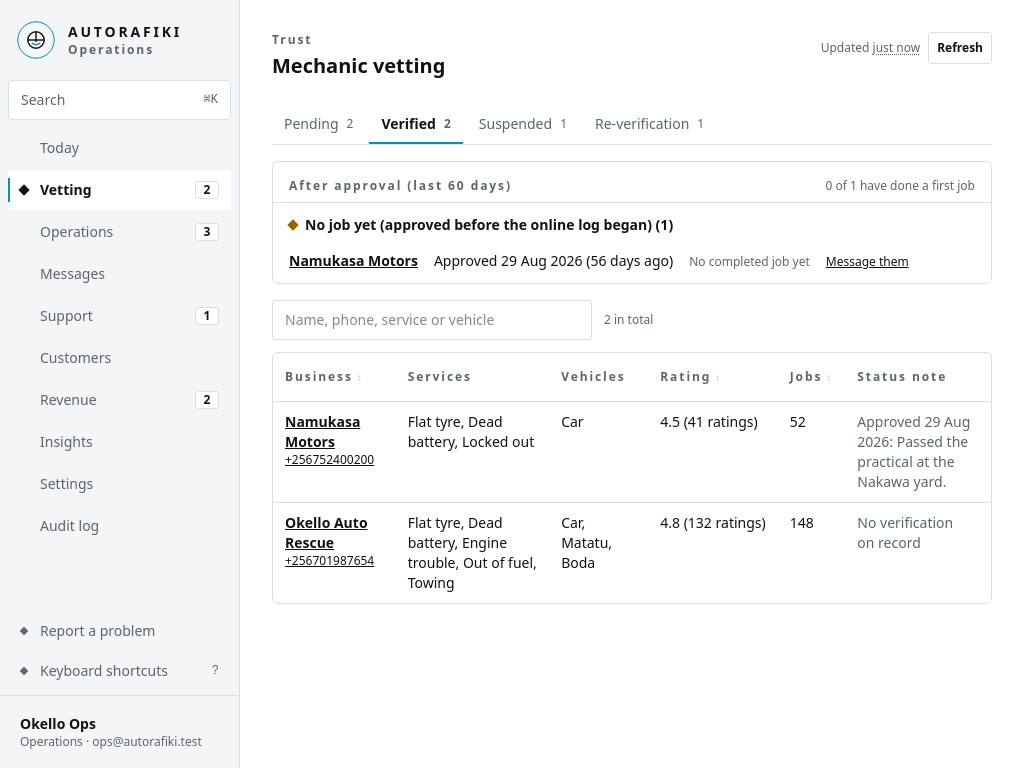
sortable, searchable lists › vetting: filter by any word, sort by a column (asc, desc, back to default)
Click the button "Jobs ↕" at x=812, y=377, box 790,361 -> 833,393
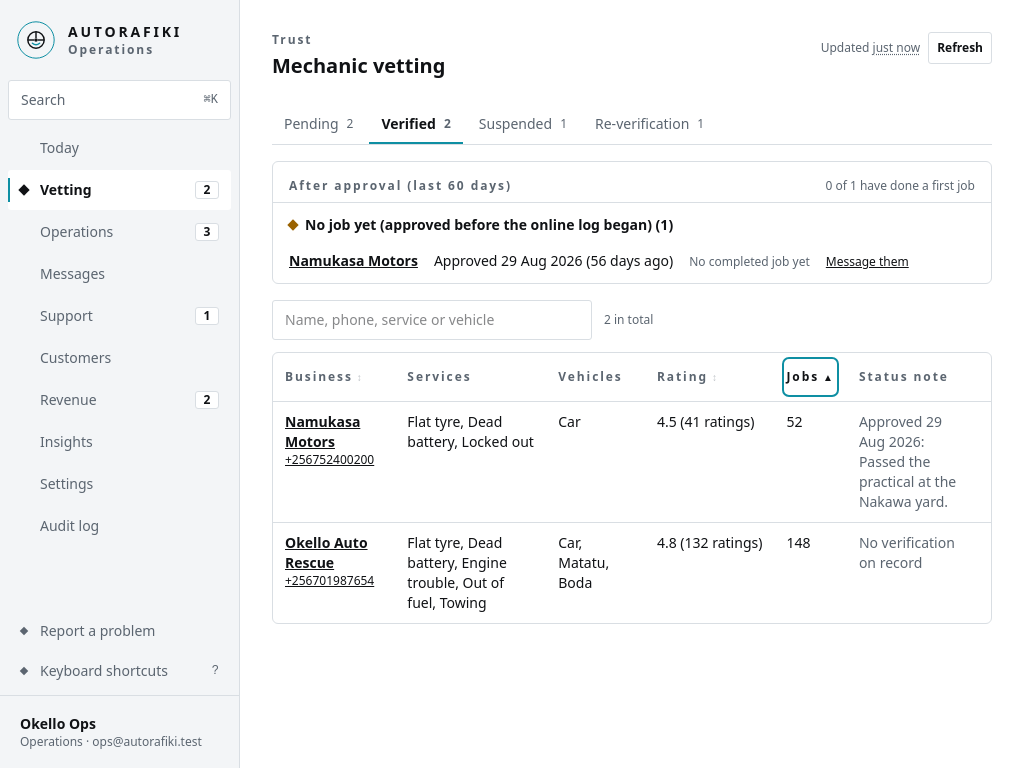
Expected: the column heading "Jobs ▲" has attribute aria-sort="ascending", 774,353 -> 847,402
Click the button "Jobs ▲" at x=811, y=377, box 786,361 -> 835,393
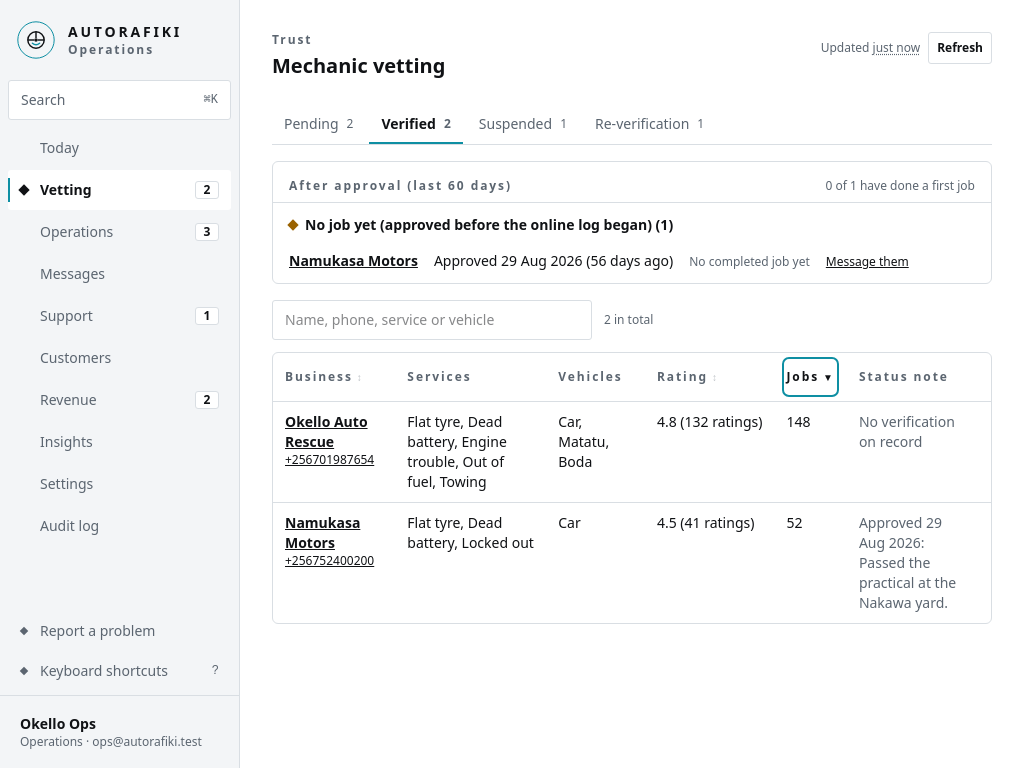
Click the button "Jobs ▼" at x=811, y=377, box 786,361 -> 835,393
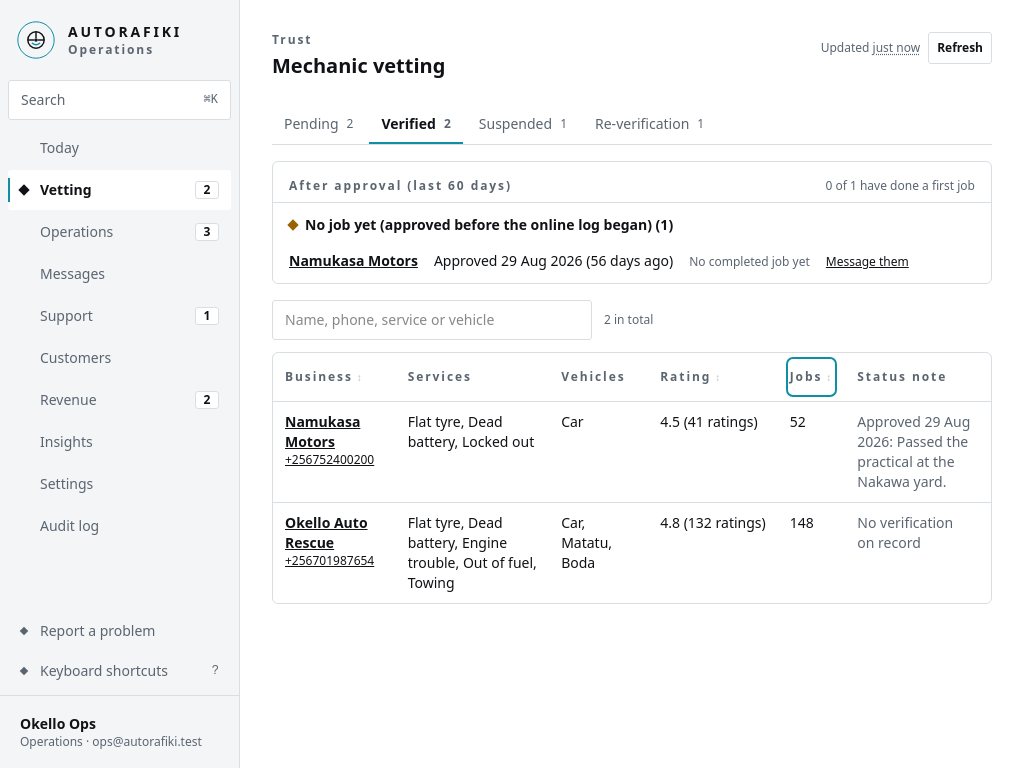
Type "Namukasa" into the search field named "Filter mechanics" at x=432, y=320, box 272,300 -> 592,340
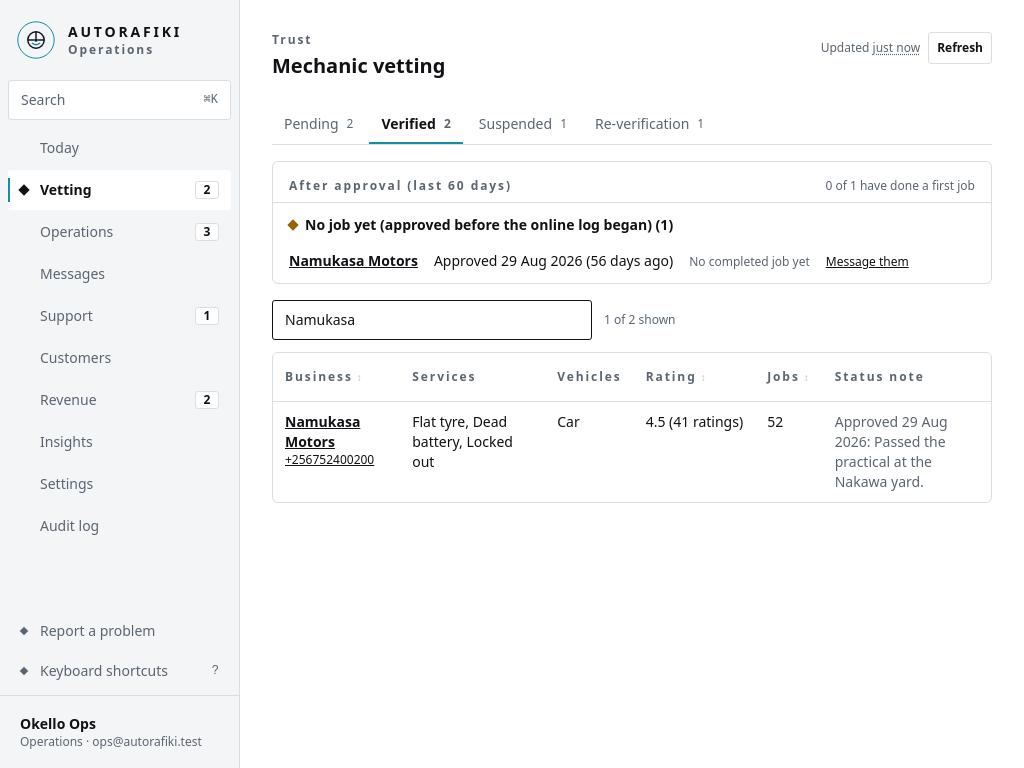
Expected: the text "1 of 2 shown" is shown, 604,312 -> 676,328
Replace the text in the search field named "Filter mechanics" with "zzzz nobody" at x=432, y=320, box 272,300 -> 592,340
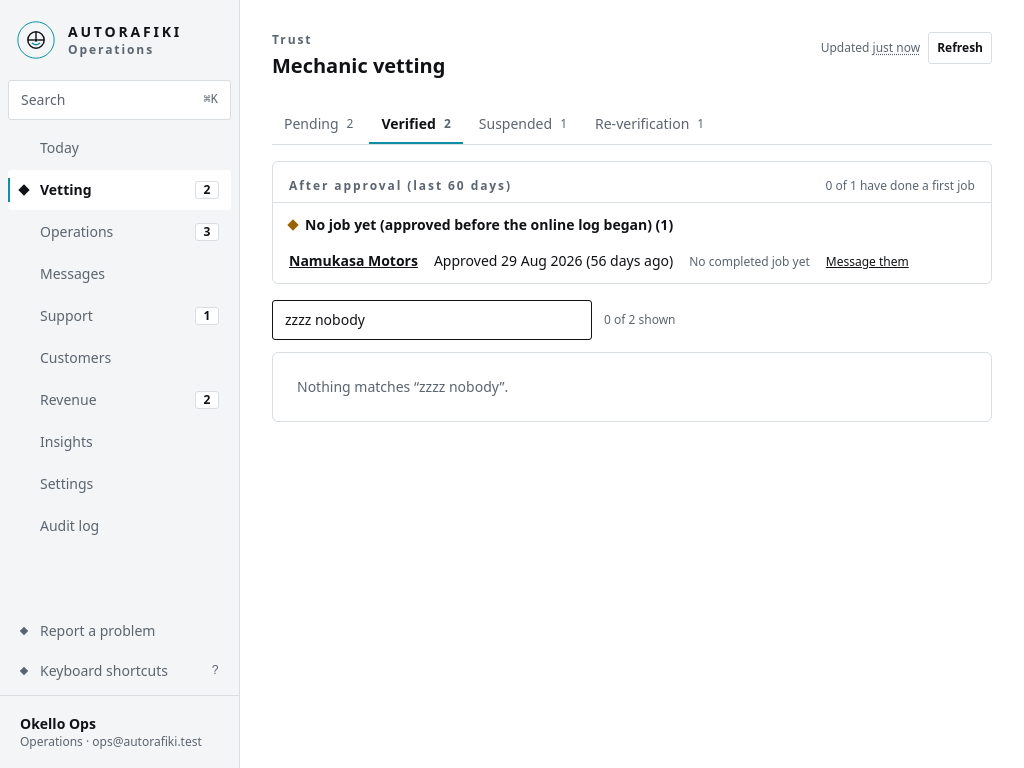
Expected: the text "Nothing matches “zzzz nobody”." is shown, 272,352 -> 992,422
